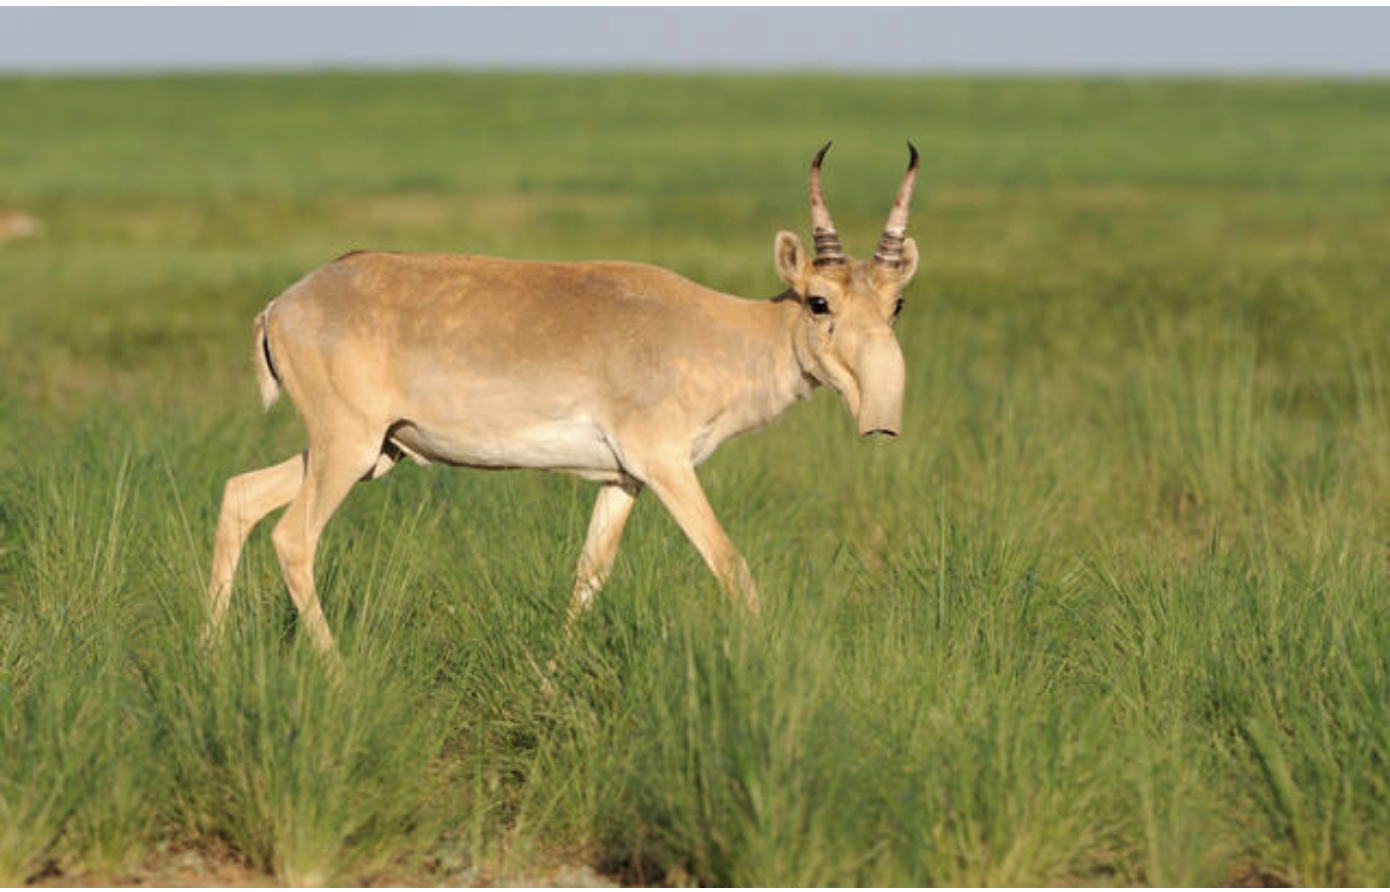saiga: (182, 143, 954, 680)
